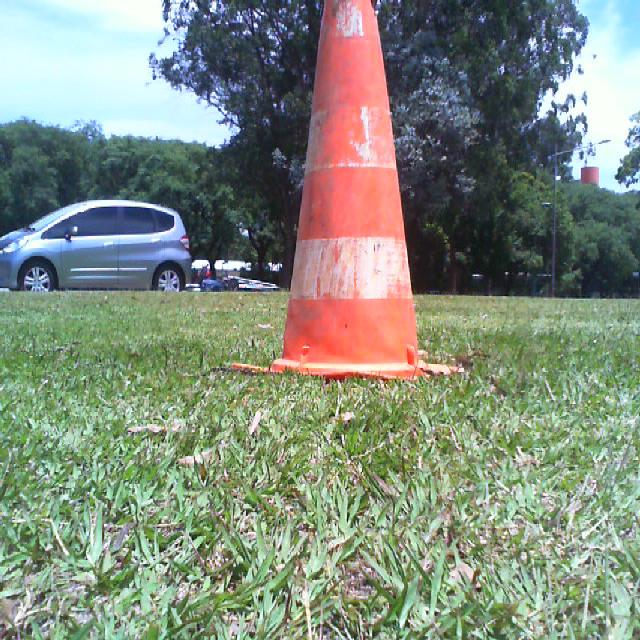cone: (233, 0, 454, 373)
